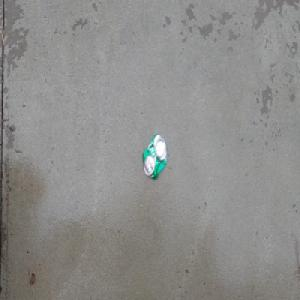SodaCan: (141, 132, 168, 181)
